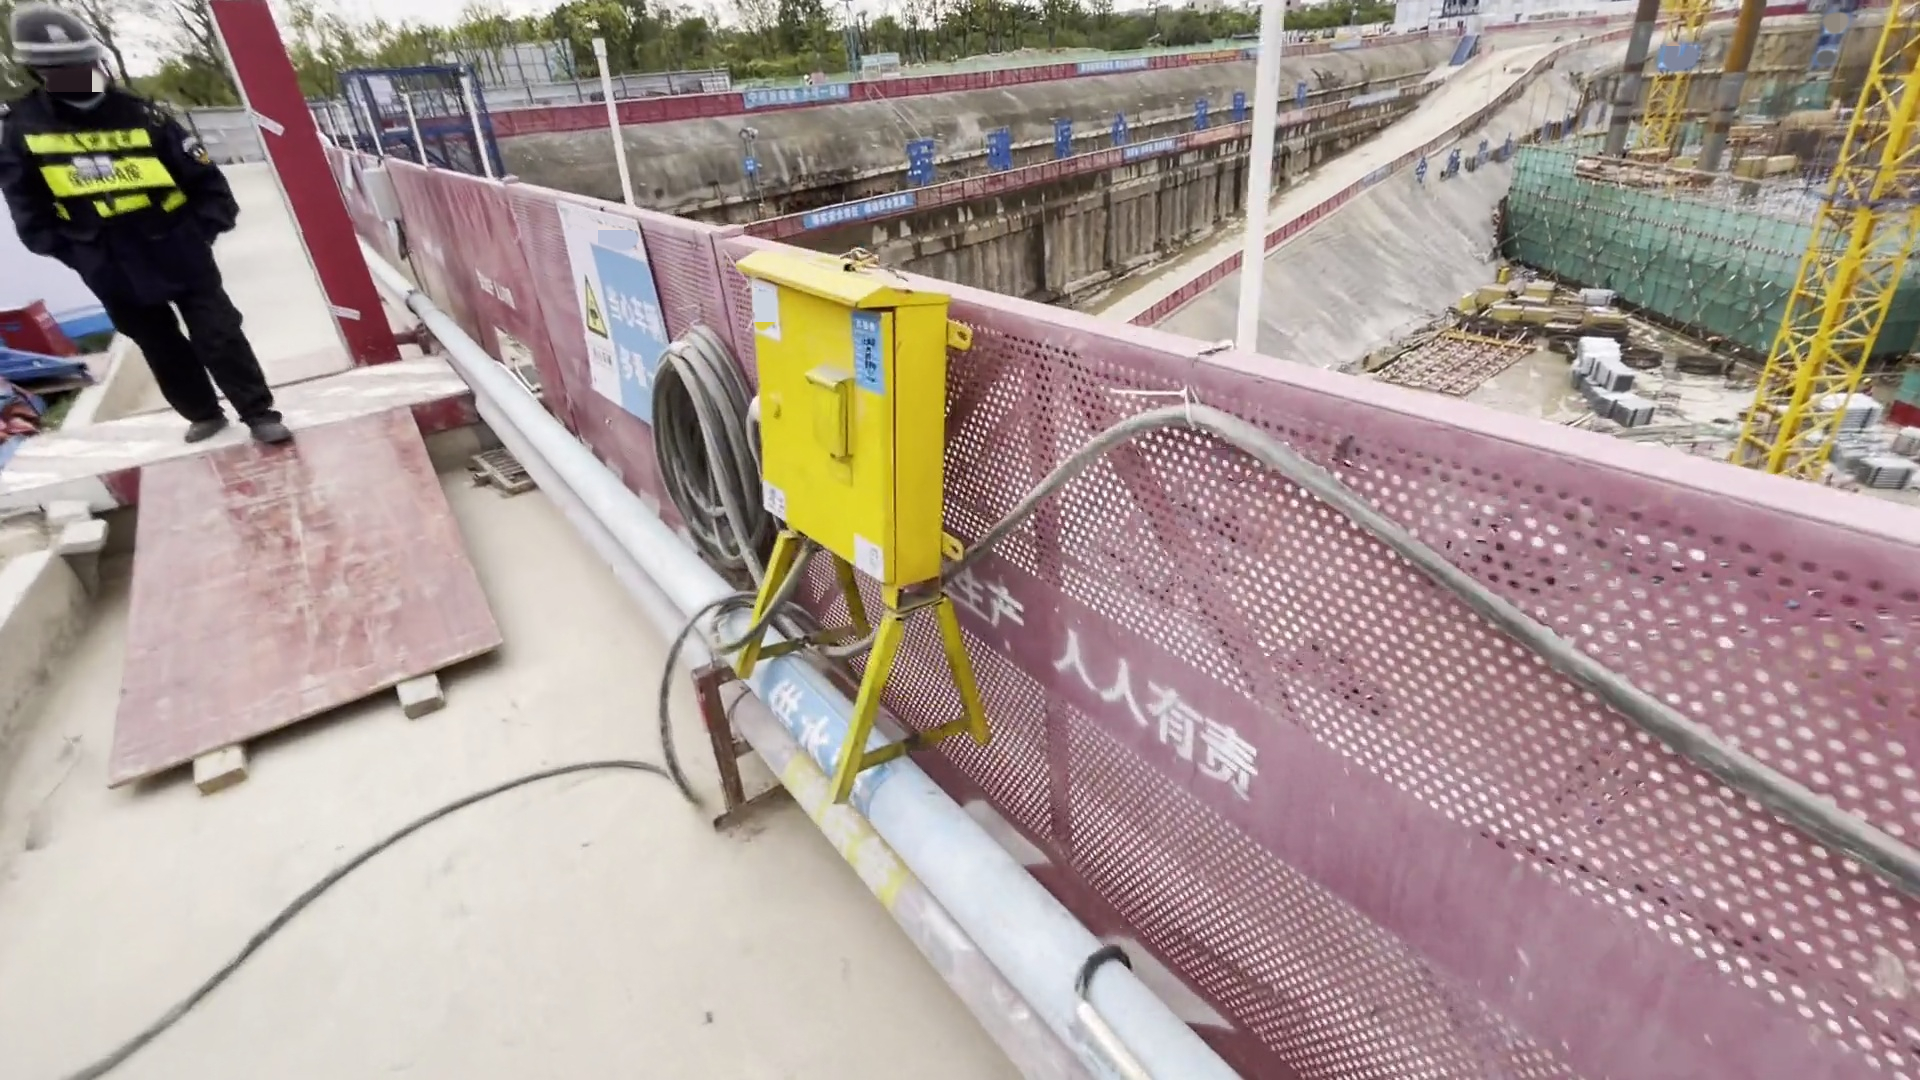ebox: (729, 236, 976, 597)
fence: (499, 153, 1915, 835)
helmet: (12, 3, 113, 77)
person: (3, 14, 296, 461)
